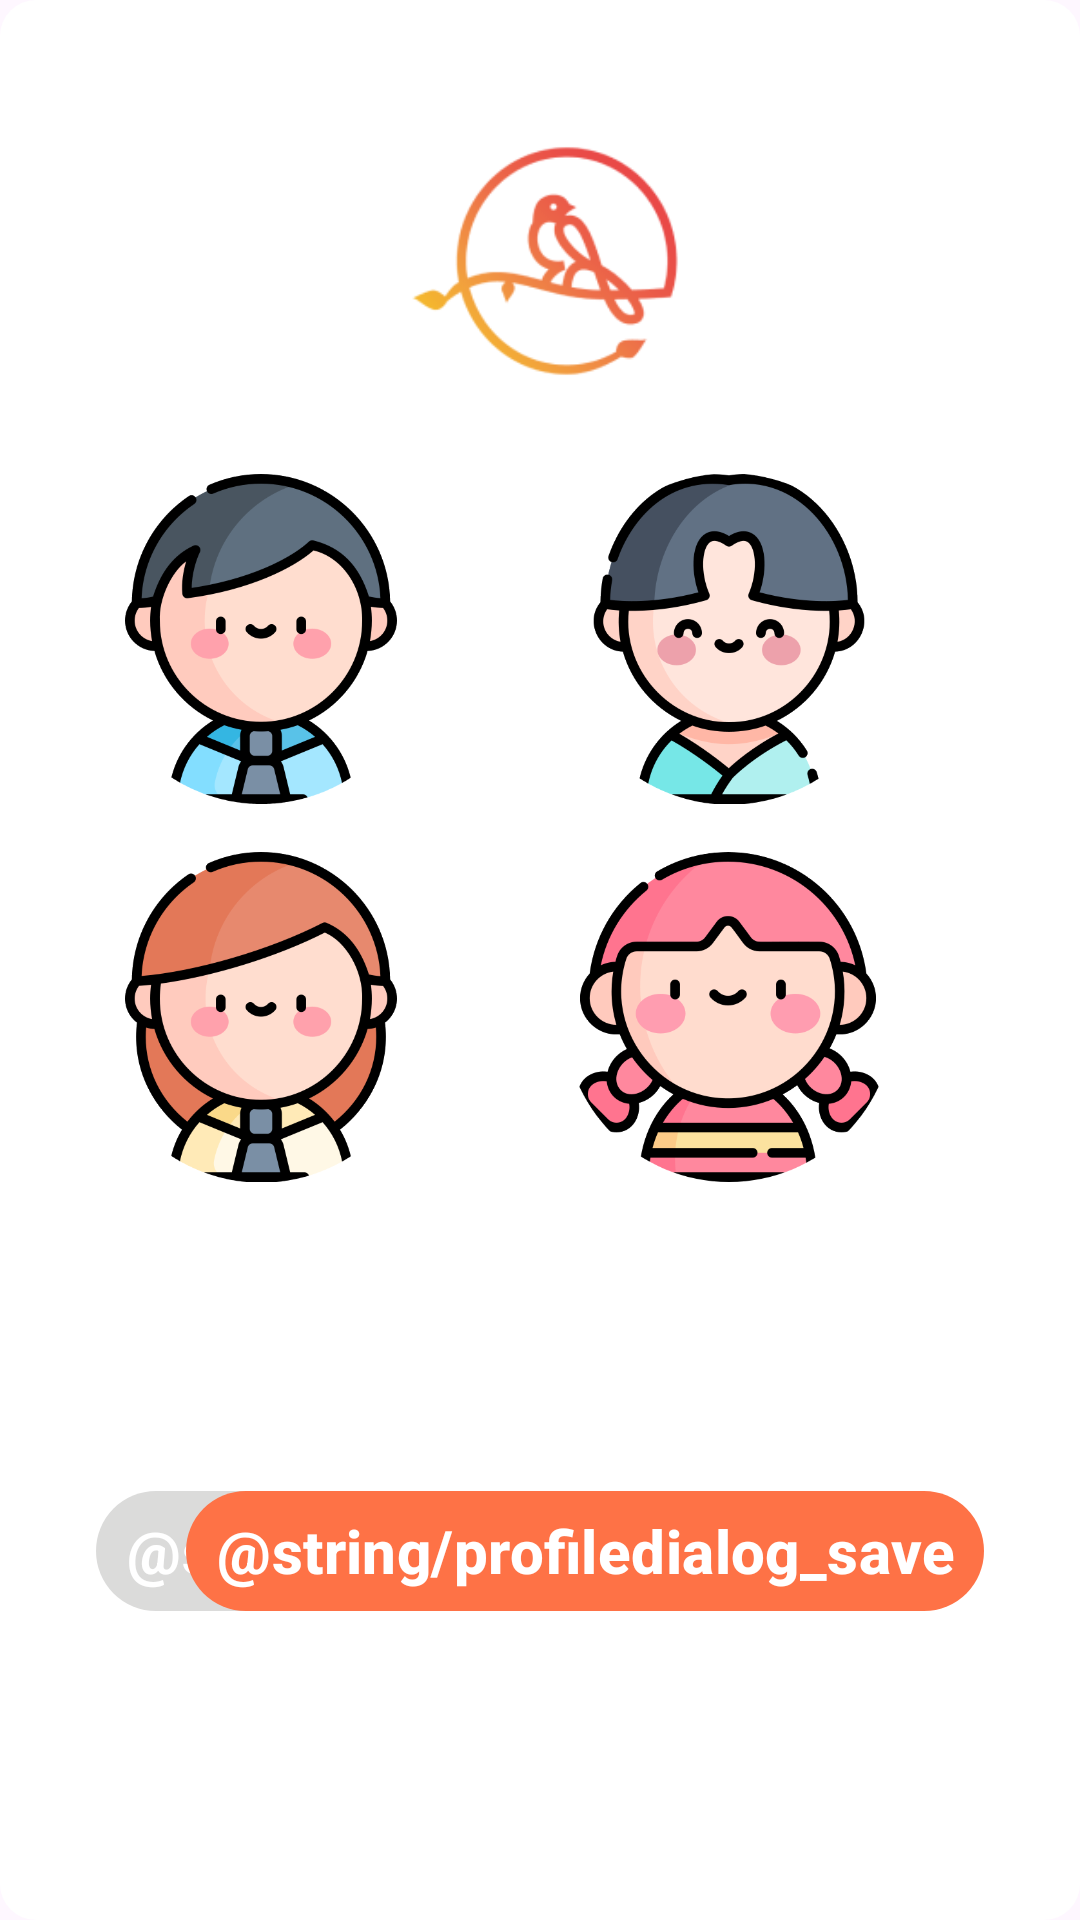

Icon bounding boxes for this 1080×1920 phone screenshot, format (x1, y1, x2, y2):
person: (125, 474, 397, 804), (593, 474, 865, 804), (125, 852, 397, 1182), (579, 852, 879, 1182)
